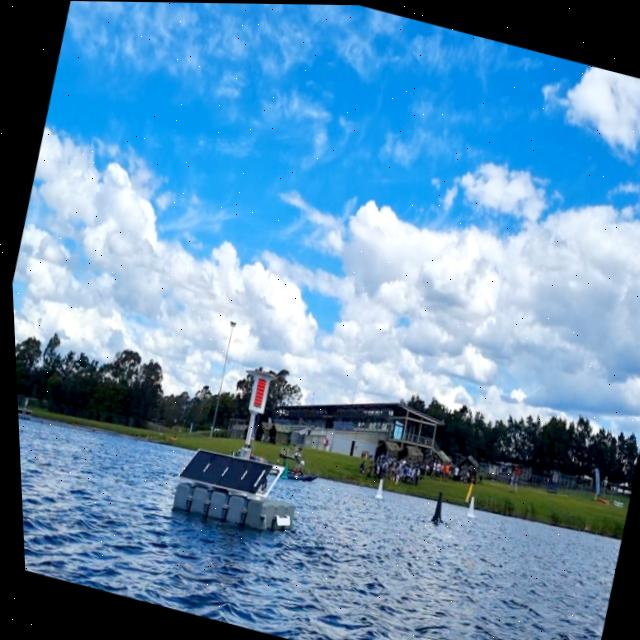led: (244, 373, 267, 410)
